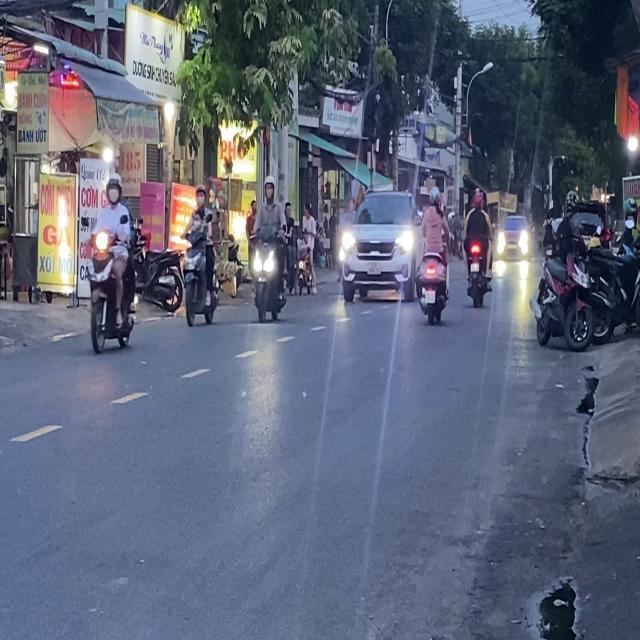helmet: (105, 172, 122, 204), (194, 183, 206, 209), (263, 174, 275, 200)
licenseplate: (85, 171, 139, 354), (248, 174, 288, 326), (180, 182, 220, 328)
